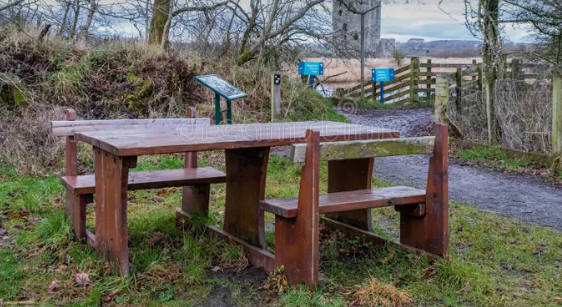obstacle: (38, 107, 457, 290)
